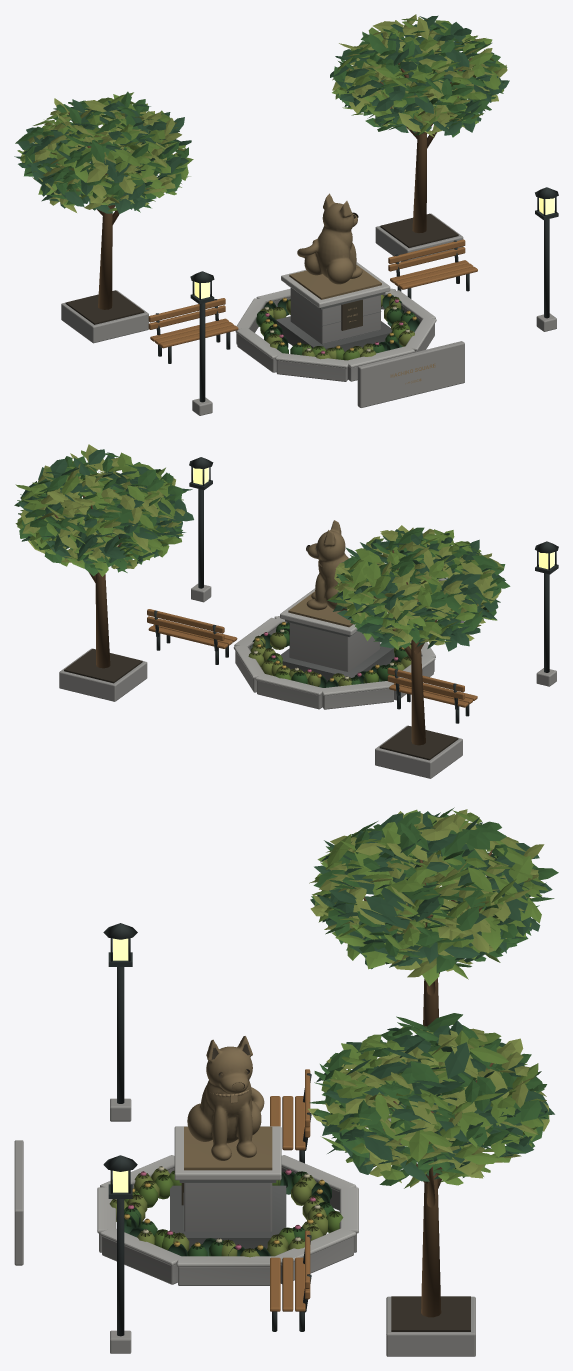
File: hachiko.glb
3 views of the same model, one above another, from view 1: azimuth 30°, elevation 25°; view 2: azimuth 150°, elevation 25°; view 3: azimuth 270°, elevation 25° (orthographic). The views are drawn at different scales.
Parts seen in each view (by area): view 1: Hachiko granite, Plaza foliage 2, Plaza foliage 0, Plaza foliage 3, Plaza foliage 1, Bench honey oak, Pedestal coping, Hachiko sculpt, Plaza charcoal iron, Plaza bark, Garden soil, Stone joints (+2 smaller); view 2: Plaza foliage 3, Plaza foliage 1, Plaza foliage 0, Plaza foliage 2, Hachiko granite, Bench honey oak, Pedestal coping, Plaza charcoal iron, Garden soil, Plaza bark, Hachiko sculpt, Stone joints (+2 smaller); view 3: Plaza foliage 1, Plaza foliage 0, Plaza foliage 3, Plaza foliage 2, Hachiko granite, Pedestal coping, Hachiko sculpt, Plaza charcoal iron, Bench honey oak, Plaza bark, Stone joints, Garden soil (+2 smaller).
Part boxes in pixels (x1=…): Hachiko granite: x1=61, y1=213, x2=556, y2=415; Plaza foliage 2: x1=14, y1=15, x2=509, y2=350; Plaza foliage 0: x1=15, y1=22, x2=507, y2=355; Plaza foliage 3: x1=21, y1=14, x2=507, y2=359; Plaza foliage 1: x1=17, y1=18, x2=504, y2=360; Bench honey oak: x1=148, y1=239, x2=477, y2=348; Pedestal coping: x1=235, y1=262, x2=436, y2=368; Hachiko sculpt: x1=297, y1=193, x2=362, y2=284; Plaza charcoal iron: x1=156, y1=187, x2=558, y2=402; Plaza bark: x1=56, y1=36, x2=472, y2=309; Garden soil: x1=65, y1=213, x2=458, y2=324; Stone joints: x1=276, y1=284, x2=392, y2=351; Plaza foliage 3: x1=20, y1=444, x2=504, y2=686; Plaza foliage 1: x1=15, y1=450, x2=503, y2=683; Plaza foliage 0: x1=14, y1=453, x2=510, y2=684; Plaza foliage 2: x1=17, y1=449, x2=505, y2=687; Hachiko granite: x1=59, y1=563, x2=556, y2=778; Bench honey oak: x1=147, y1=609, x2=477, y2=707; Pedestal coping: x1=233, y1=588, x2=435, y2=695; Plaza charcoal iron: x1=154, y1=457, x2=558, y2=723; Garden soil: x1=64, y1=648, x2=458, y2=760; Plaza bark: x1=54, y1=477, x2=437, y2=745; Hachiko sculpt: x1=306, y1=520, x2=348, y2=611; Stone joints: x1=281, y1=619, x2=394, y2=682; Plaza foliage 1: x1=124, y1=809, x2=548, y2=1250; Plaza foliage 0: x1=124, y1=807, x2=558, y2=1256; Plaza foliage 3: x1=109, y1=809, x2=549, y2=1257; Plaza foliage 2: x1=124, y1=811, x2=554, y2=1256; Hachiko granite: x1=14, y1=1098, x2=475, y2=1356; Pedestal coping: x1=97, y1=1126, x2=358, y2=1266; Hachiko sculpt: x1=187, y1=1036, x2=264, y2=1160; Plaza charcoal iron: x1=103, y1=923, x2=311, y2=1336; Bench honey oak: x1=270, y1=1069, x2=310, y2=1311; Plaza bark: x1=363, y1=849, x2=493, y2=1317; Stone joints: x1=170, y1=1180, x2=286, y2=1251; Garden soil: x1=391, y1=1104, x2=470, y2=1331.
Bounding box in the file's own units: 12.61 × 5.72 × 9.13.
